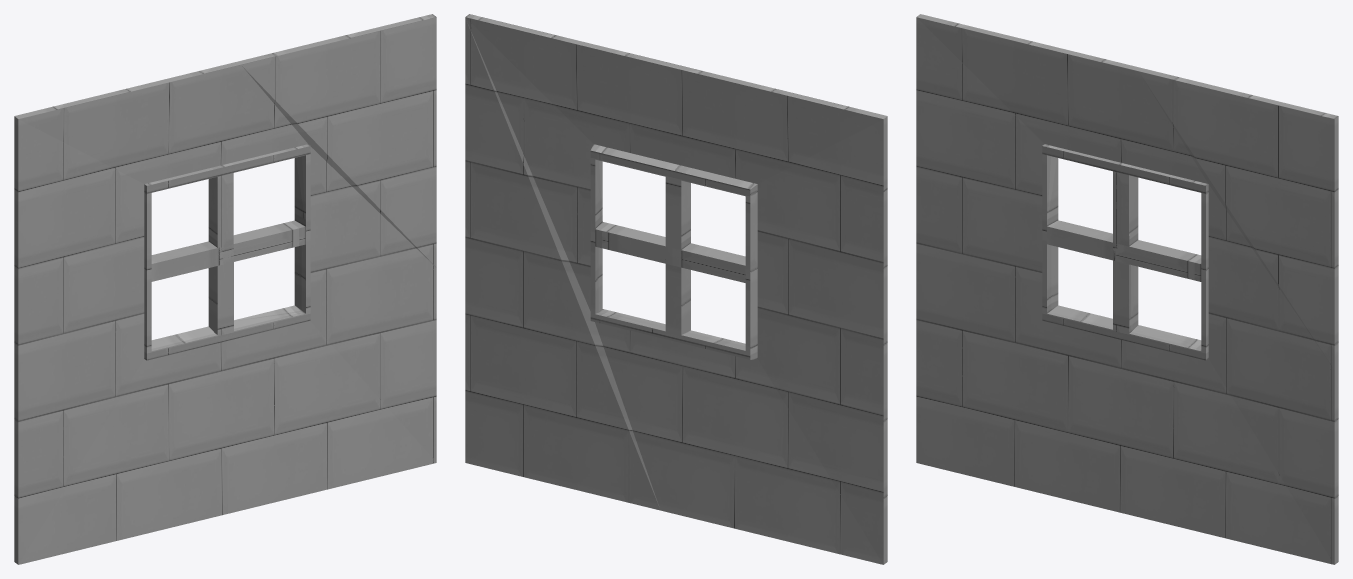
File: finaltest.fbx
The picture shows the model from 3 angles, left to right: view 1: azimuth 30°, elevation 25°; view 2: azimuth 150°, elevation 25°; view 3: azimuth 330°, elevation 25°; orthographic projection.
Visible parts, largest first — view 1: WindowWall; view 2: WindowWall; view 3: WindowWall.
Boxes of the visible parts, x1,y1,x2,y2 form: WindowWall: [14, 14, 436, 564]; WindowWall: [465, 14, 887, 564]; WindowWall: [916, 14, 1338, 564].
Size of the model in its own units: 4.9 by 4.99 by 0.1893.
Materials: 1 (1 with a texture image).
